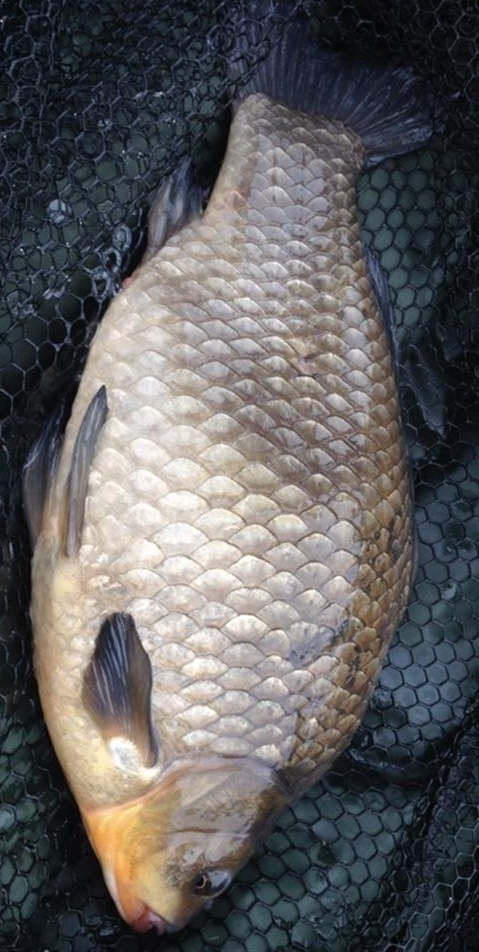Carassius carassius: (20, 20, 459, 936)
